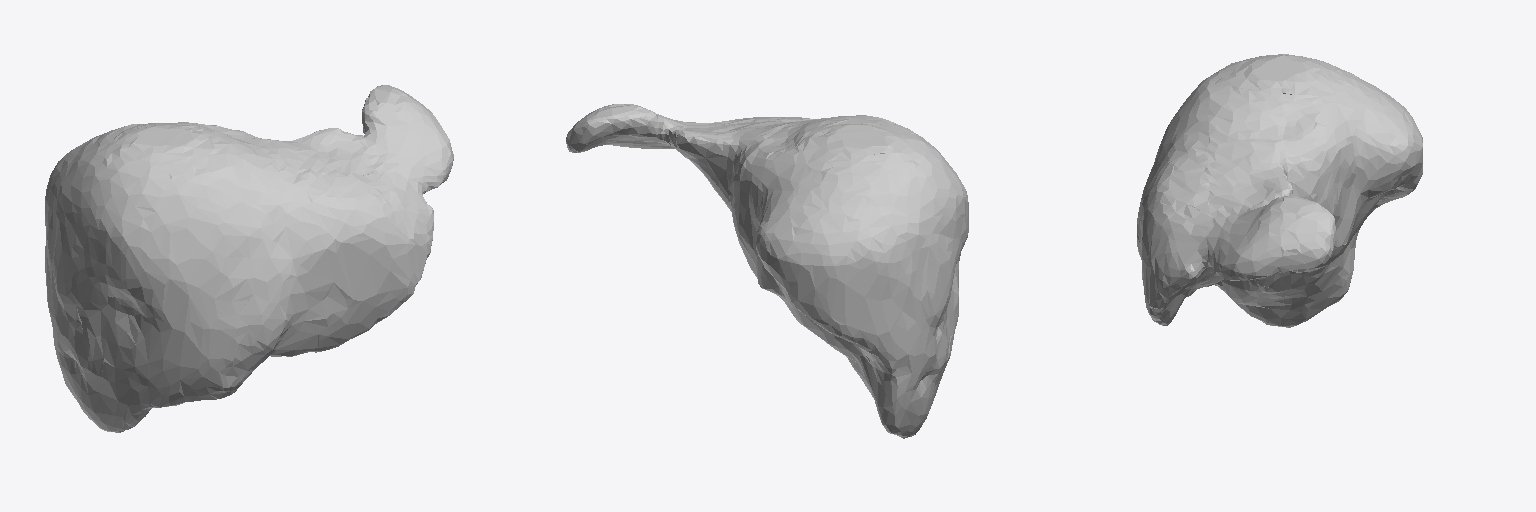
The model's file is Liver_collision.obj.
The picture shows the model from 3 angles: view 1: azimuth 30°, elevation 25°; view 2: azimuth 150°, elevation 25°; view 3: azimuth 270°, elevation 25°; orthographic projection.
Parts seen in each view (by area): view 1: Liver; view 2: Liver; view 3: Liver.
Part boxes in pixels (bbox=[...]): Liver: bbox=[45, 85, 453, 432]; Liver: bbox=[566, 104, 968, 438]; Liver: bbox=[1137, 54, 1422, 327].
Size of the model in its own units: 27.04 by 19.97 by 18.31.